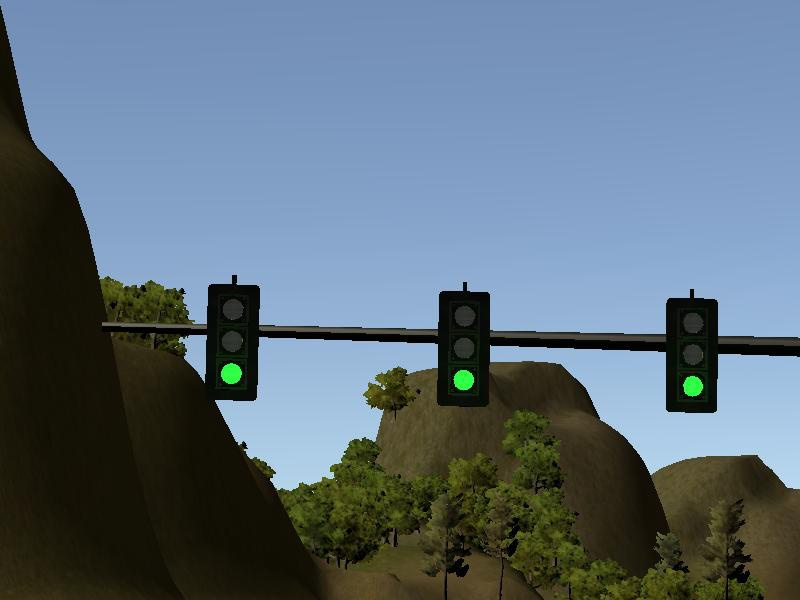Green: (666, 300, 718, 413), (439, 292, 489, 406), (208, 286, 256, 401)
